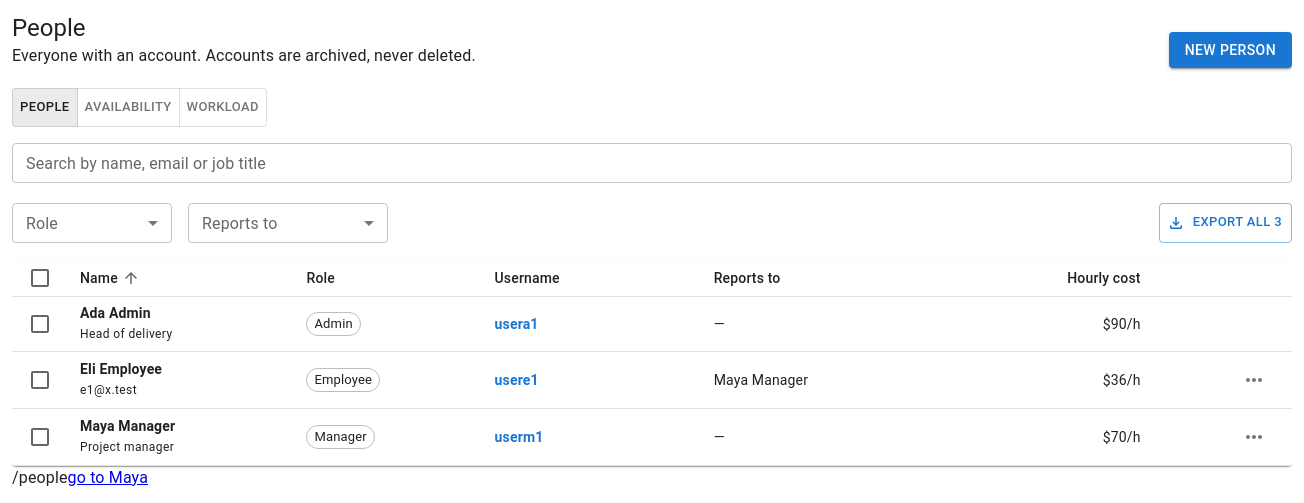
Test: PeoplePage as an admin › offers to clear the search when nobody matches, and the full list comes back
This screenshot has width=1304, height=503.
Expected: the text "Eli Employee" is shown, top-left (80, 361), bottom-right (162, 377)
Type "zzz" into the field labelled "Search by name, email or job title" at (652, 163), box top-left (12, 143), bottom-right (1292, 183)
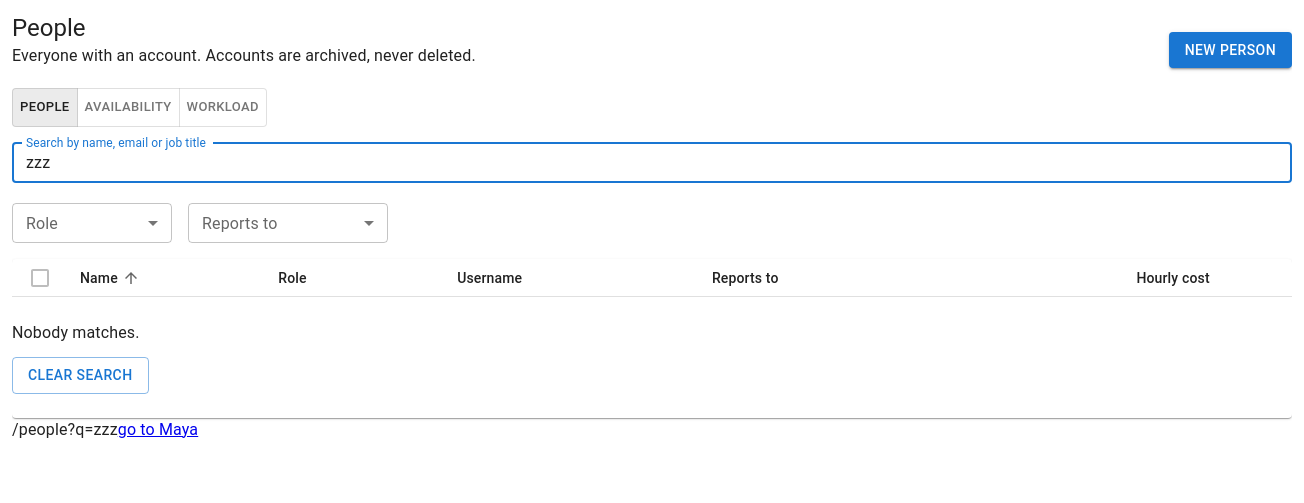
Click the button "Clear search" at (80, 375), box top-left (12, 357), bottom-right (148, 394)
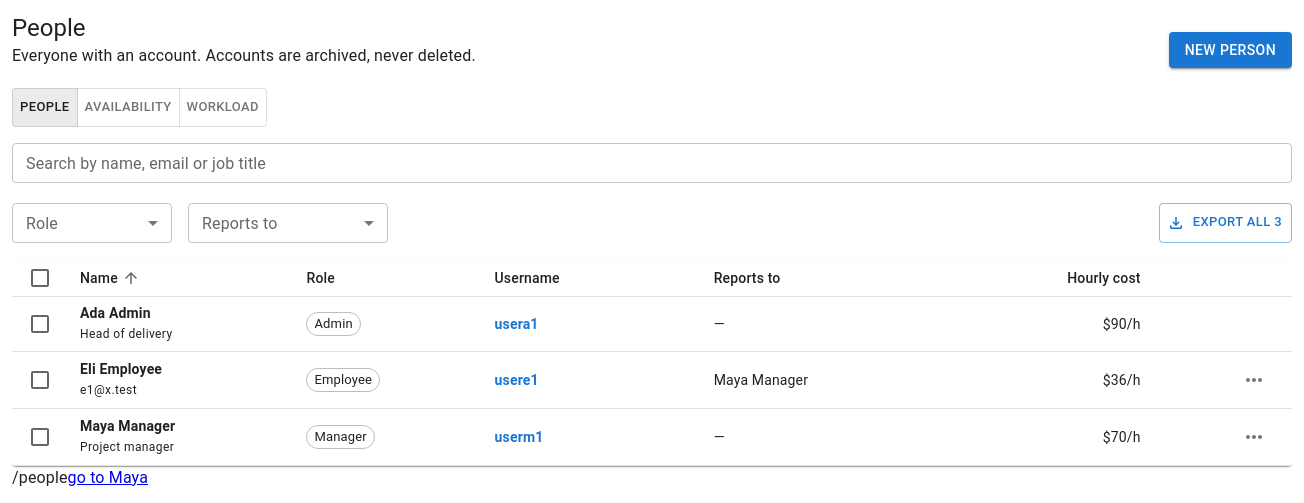
Result: the field labelled "Search by name, email or job title" is empty at top-left (12, 143), bottom-right (1292, 183)
Result: the text "Eli Employee" is shown at top-left (80, 361), bottom-right (162, 377)
